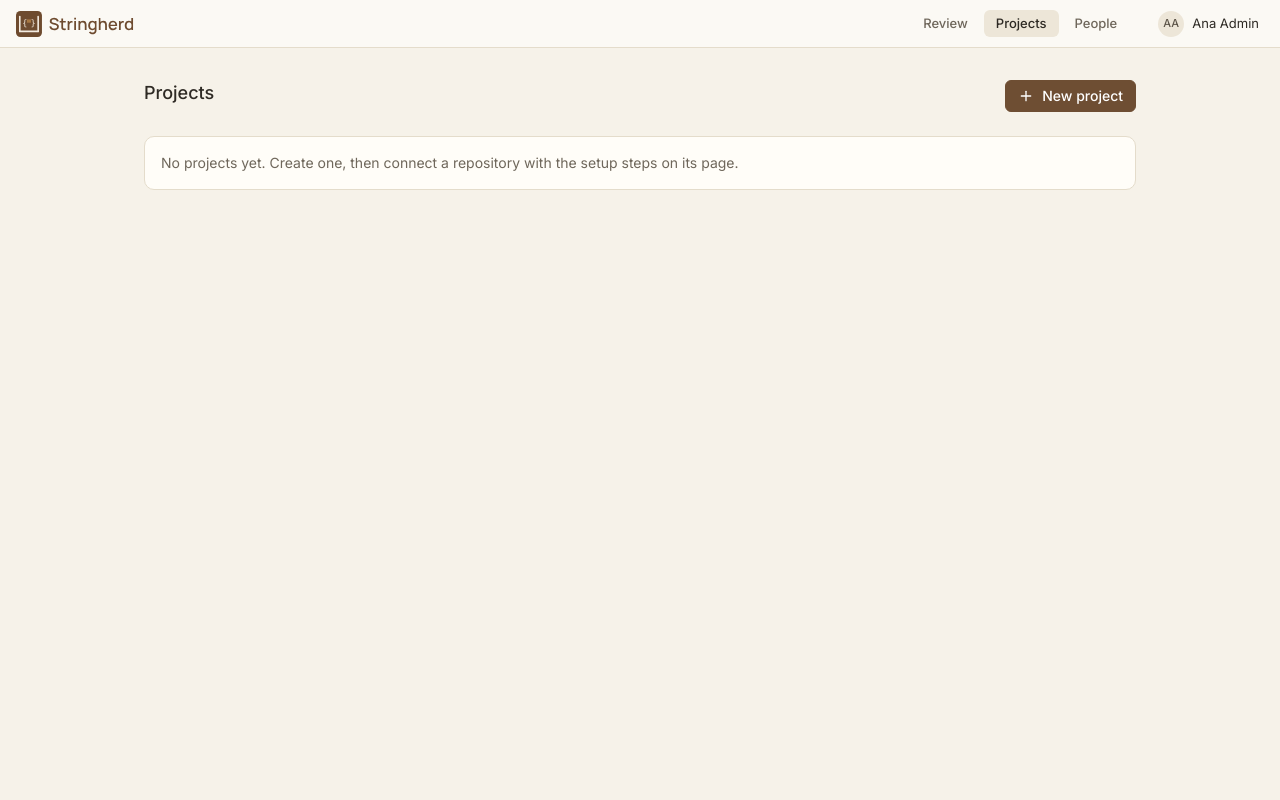
Test: project administration › refuses a target language that is also the source
Step 1. Click the button "New project" → coordinates (1071, 96), box [1005,80,1136,112]
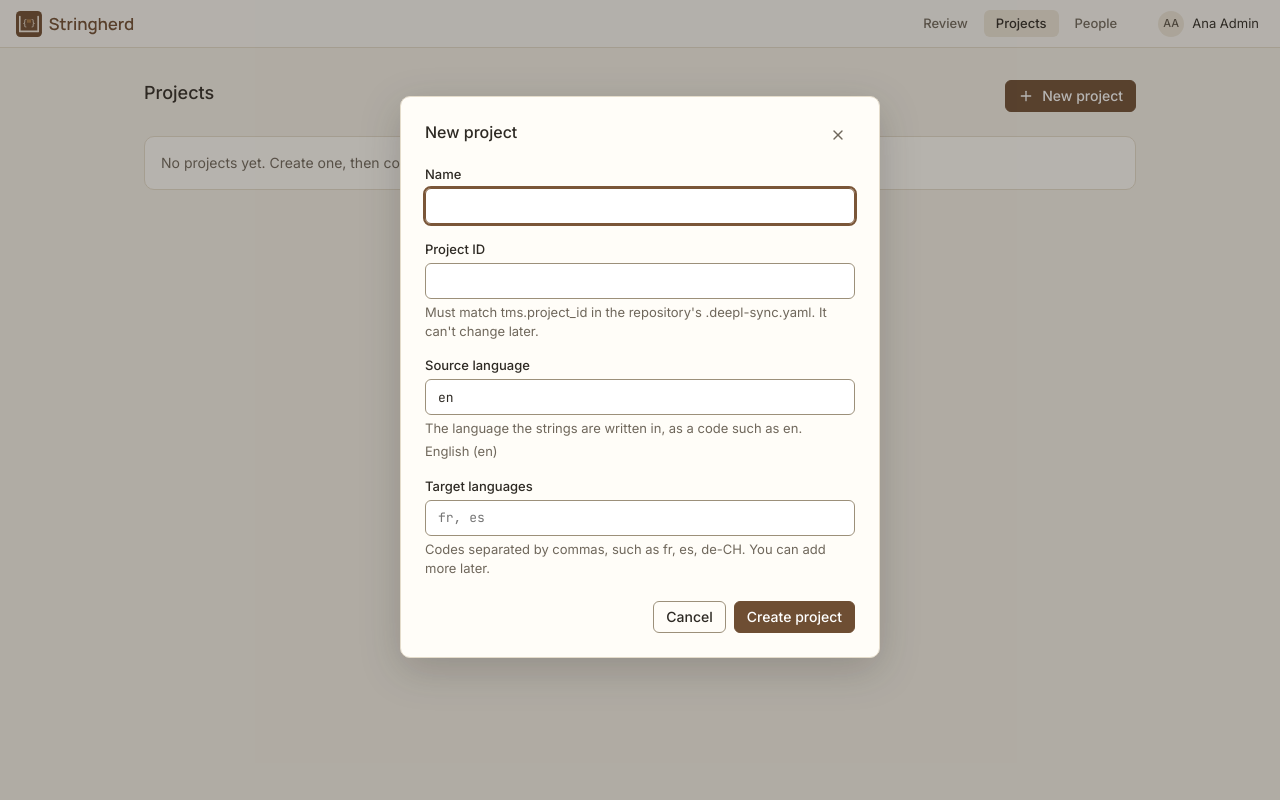
Step 2. Type "Shop" into the field labelled "Name" → coordinates (640, 206), box [425,188,855,224]
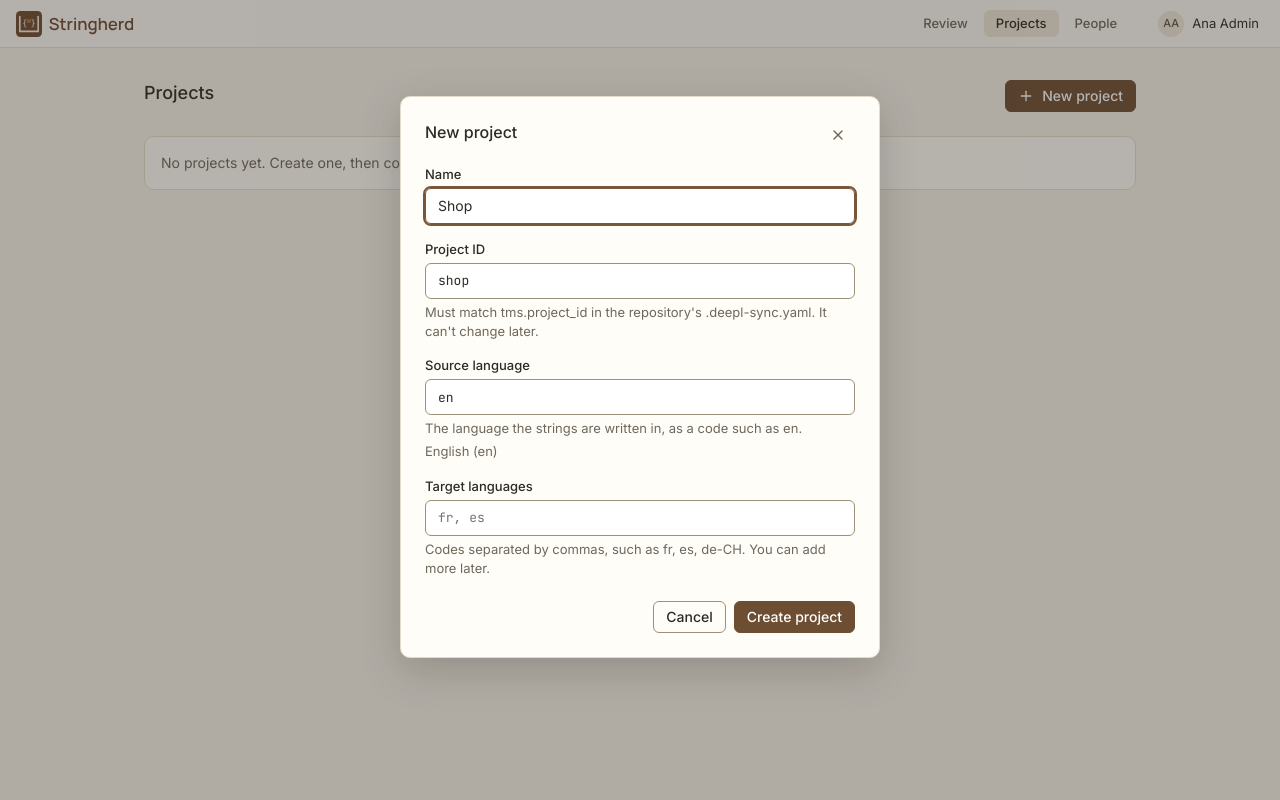
Step 3. Type "en, fr" into the field labelled "Target languages" → coordinates (640, 518), box [425,500,855,536]
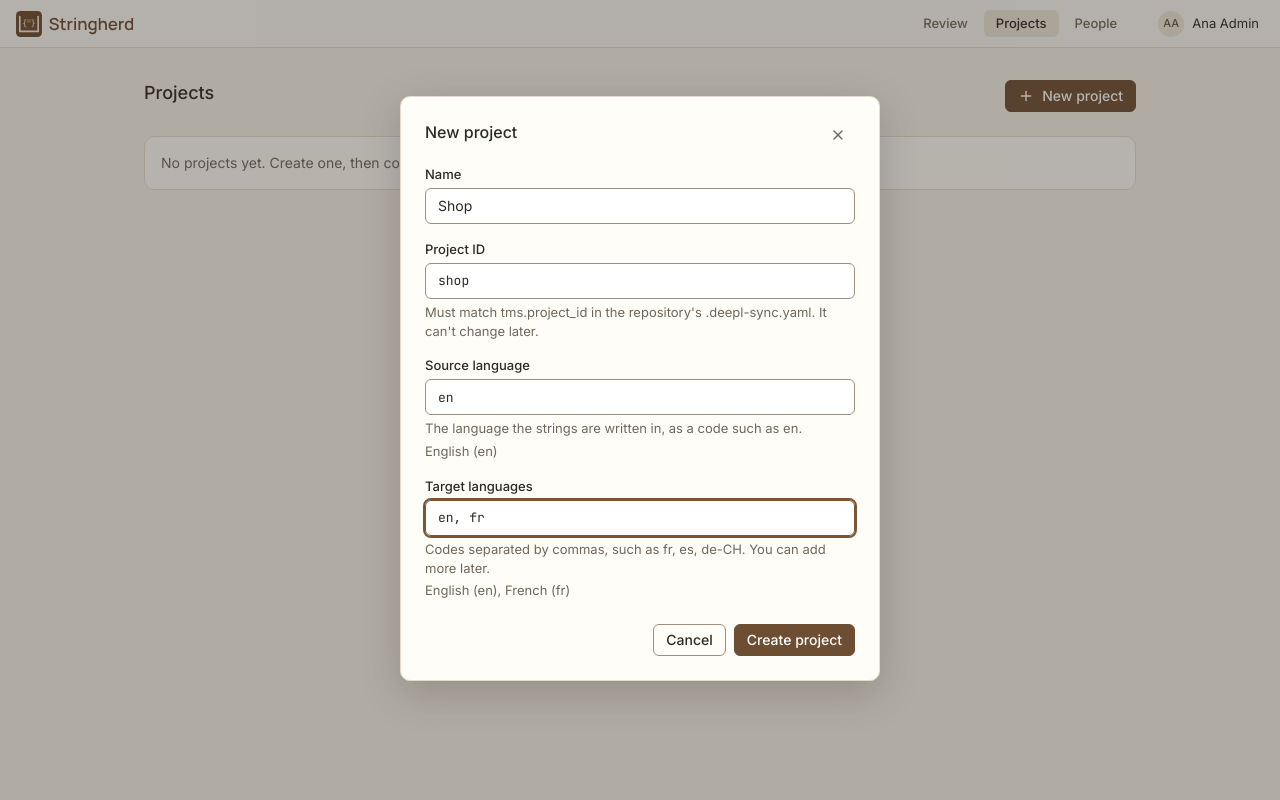
Step 4. Click the button "Create project" → coordinates (794, 640), box [734,624,855,656]
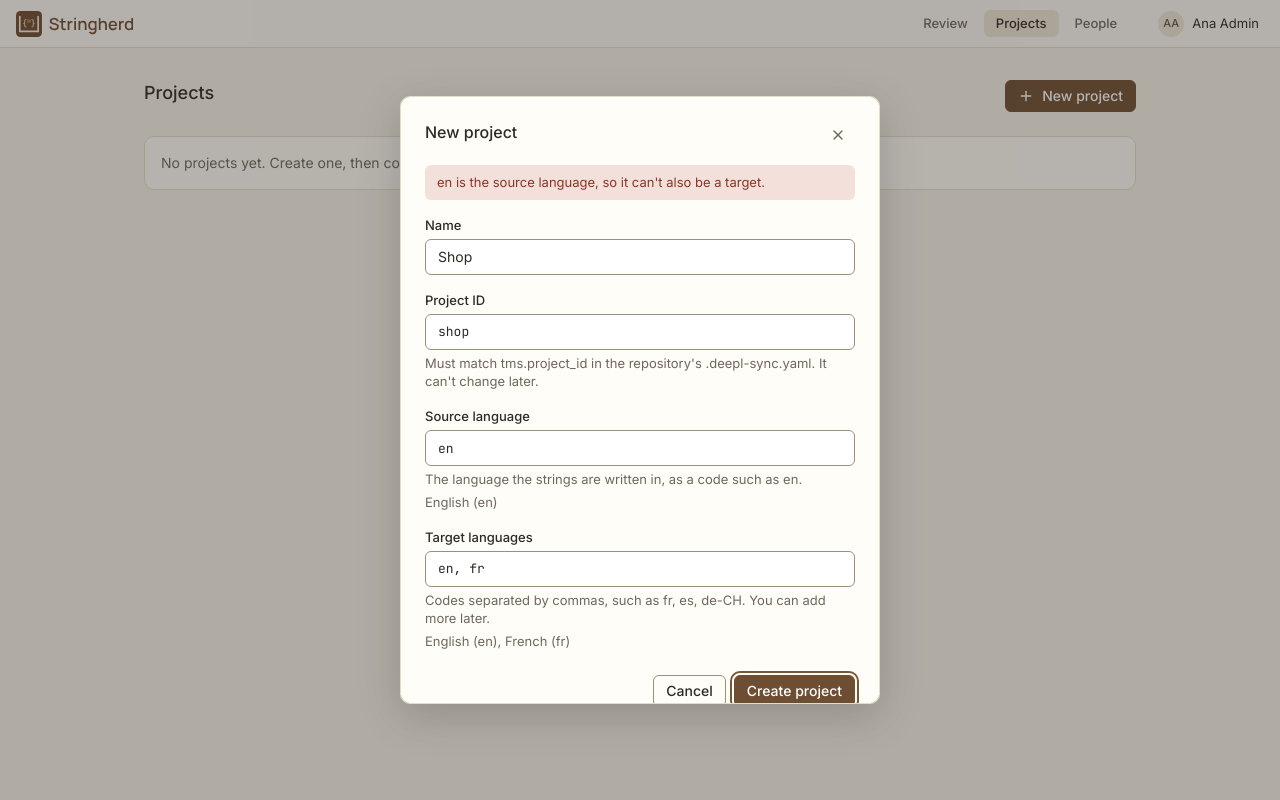
Now the message shows "en is the source language", box [437,174,765,190]
